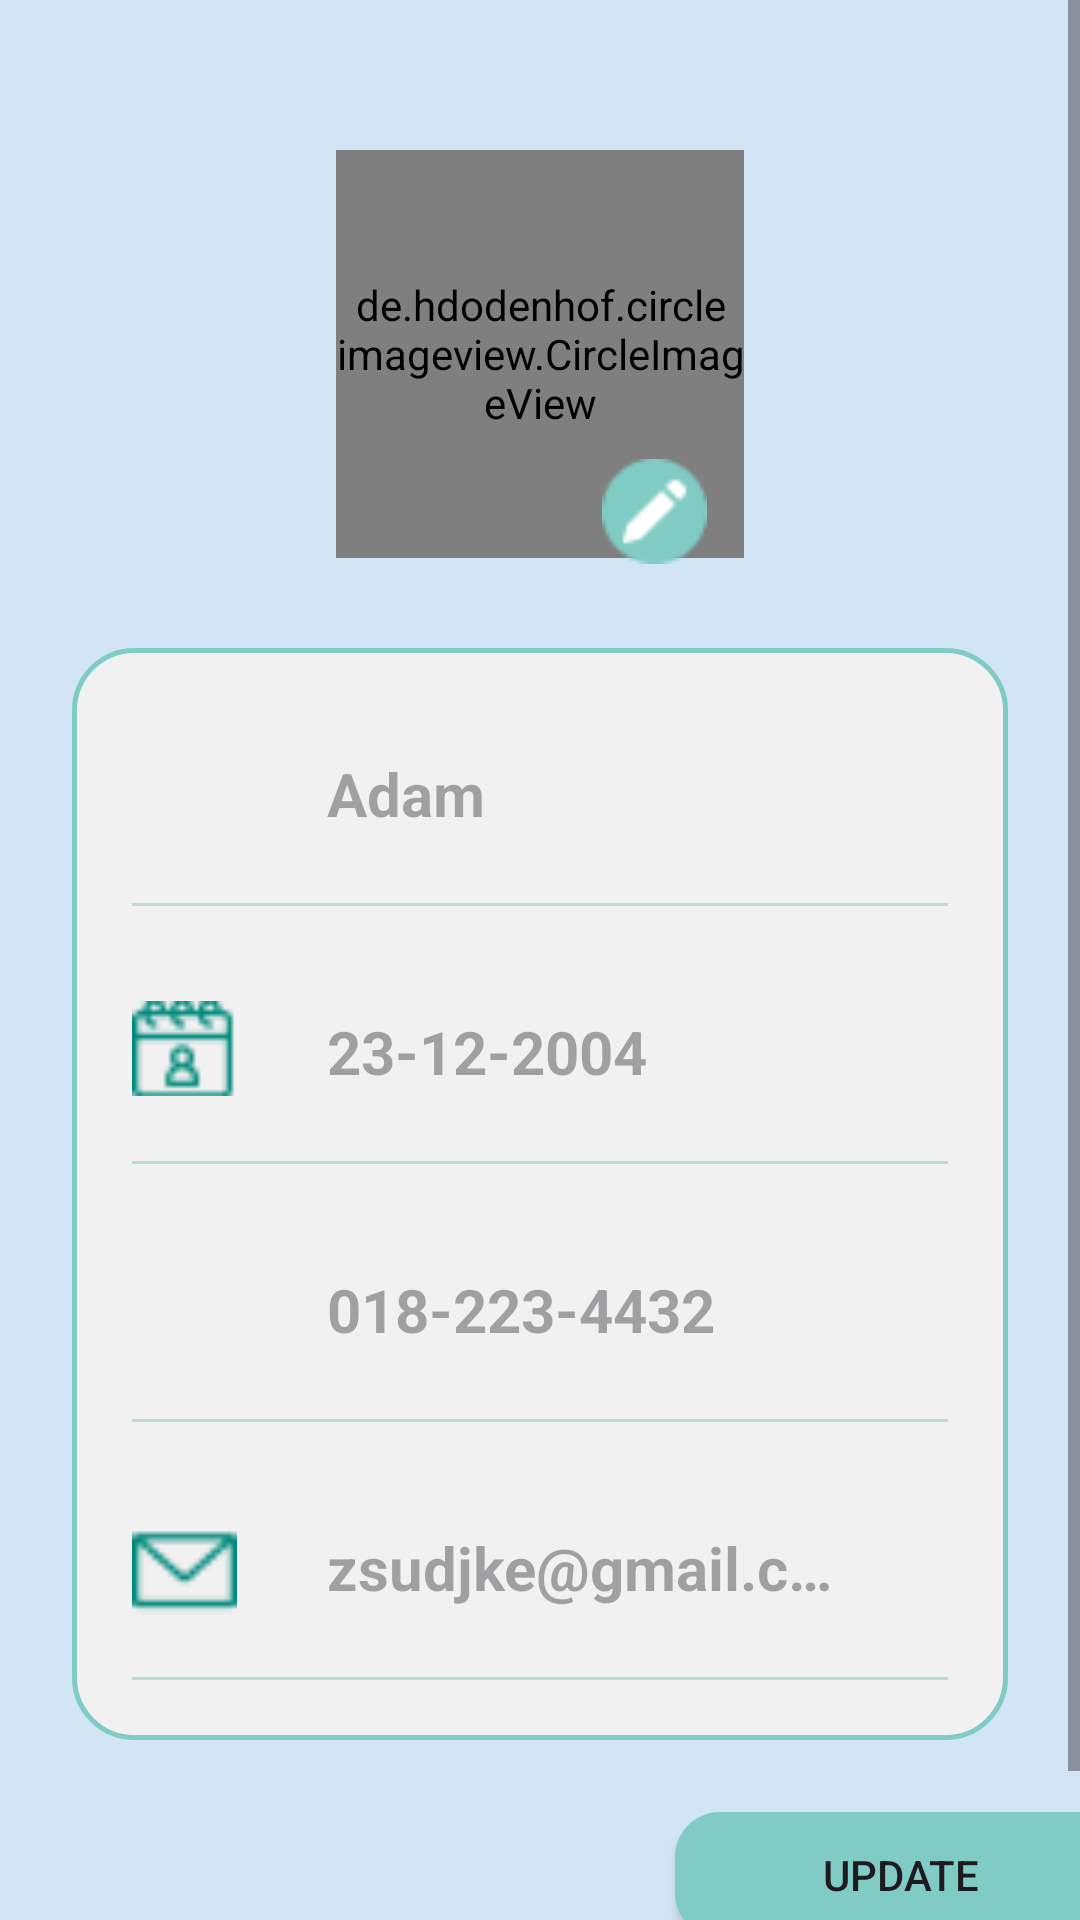

Point at icon controls on the screen. Image size 1080×1920, points as (x,y).
birthday: (183,1048)
edit pencil: (654,511)
email: (184,1570)
